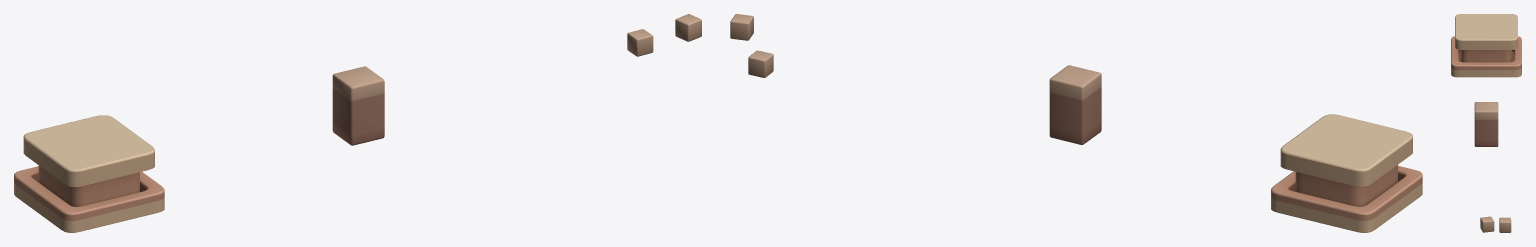
The model's file is Props.fbx.
3 renders of one model, left to right at view 1: azimuth 30°, elevation 25°; view 2: azimuth 150°, elevation 25°; view 3: azimuth 270°, elevation 25°, orthographic. The views are drawn at different scales.
Parts seen in each view (by area): view 1: Box, Box03, Box1-5 (5), Box1-5 (6); view 2: Box, Box03, Box1-5 (6), Box1-5 (5); view 3: Box, Box03, Box1-5 (5), Box1-5 (6).
Part boxes in pixels (x1,y1,x2,y2): Box: [14, 115, 164, 232]; Box03: [332, 66, 384, 145]; Box1-5 (5): [675, 14, 701, 41]; Box1-5 (6): [627, 29, 653, 56]; Box: [1271, 114, 1422, 232]; Box03: [1049, 65, 1101, 144]; Box1-5 (6): [748, 50, 773, 77]; Box1-5 (5): [730, 14, 753, 40]; Box: [1451, 14, 1521, 77]; Box03: [1474, 102, 1498, 146]; Box1-5 (5): [1480, 216, 1494, 232]; Box1-5 (6): [1499, 217, 1511, 232].
Size of the model in its own units: 58.85 by 5.01 by 9.
